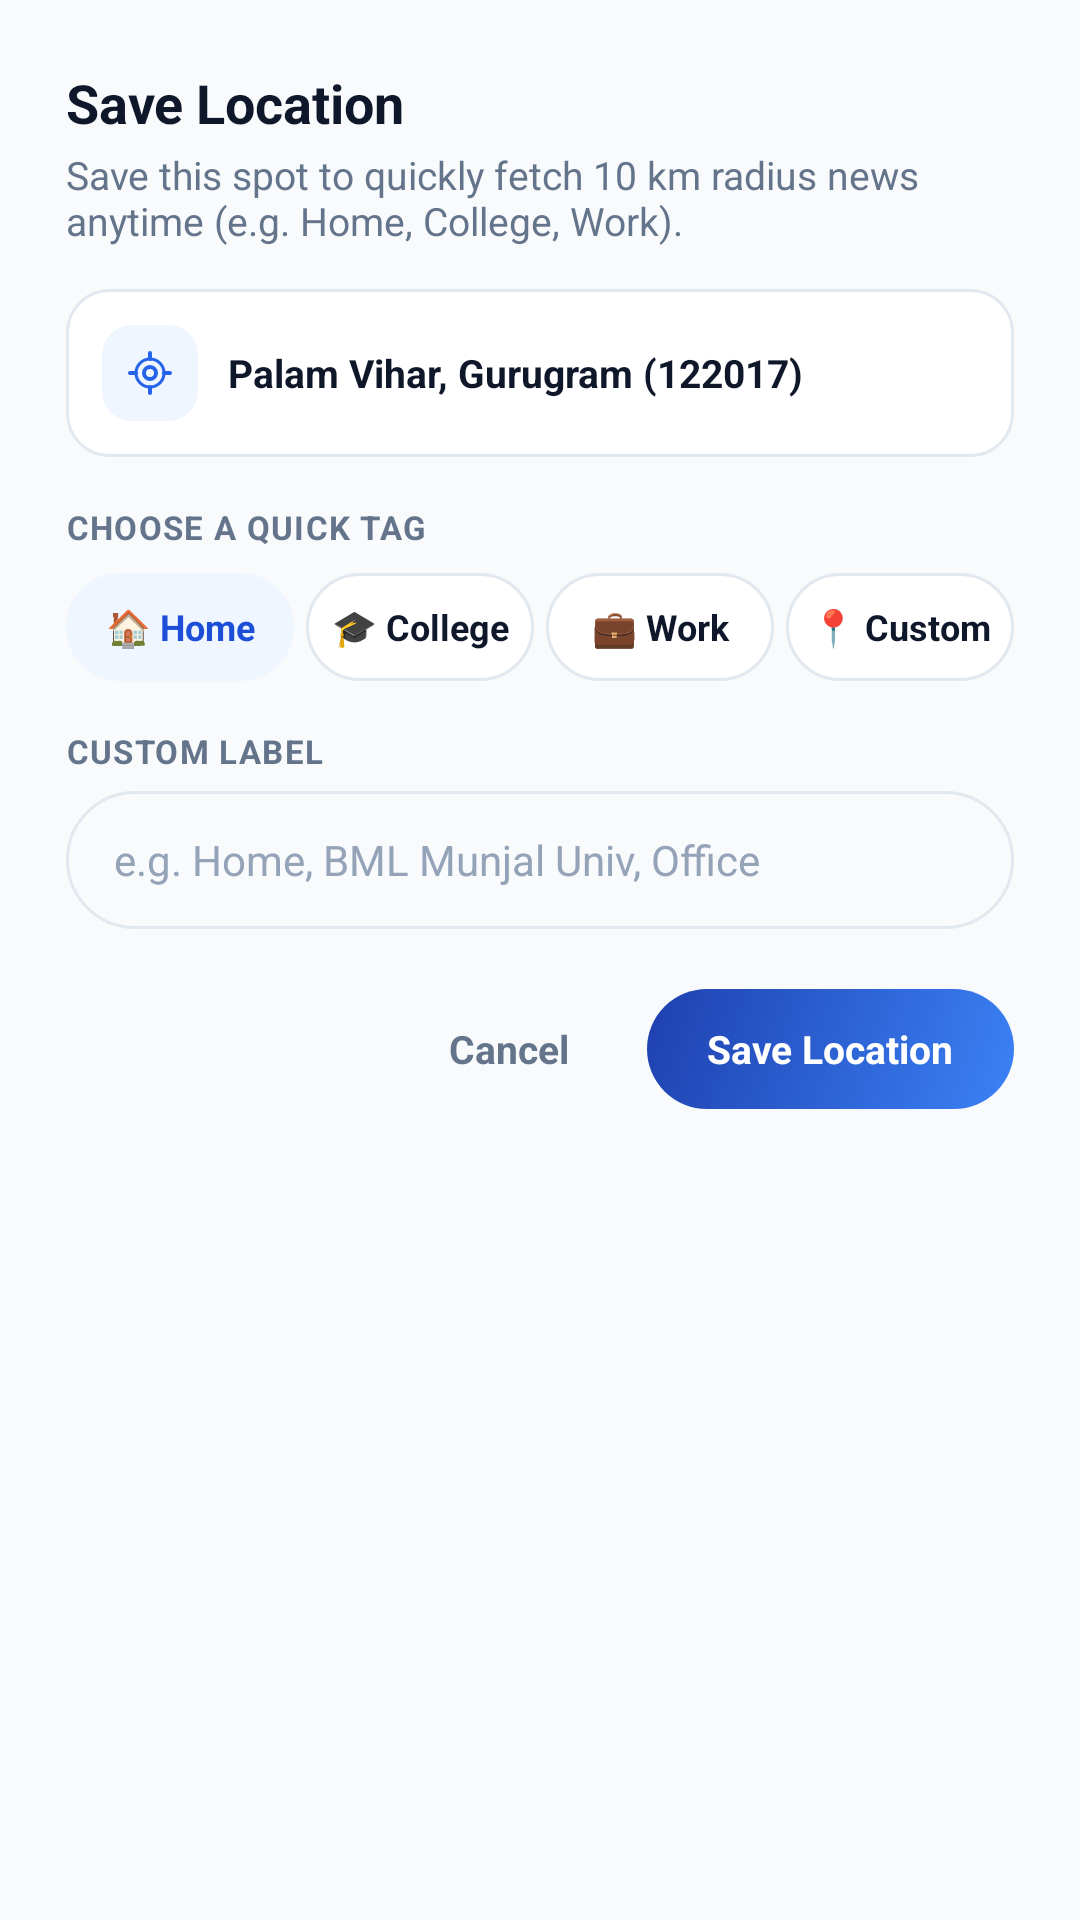

Icons on this 1080px×1920px Android screen, each with its box as (x1, y1, x2, y2):
gps target: (128, 351, 172, 395)
